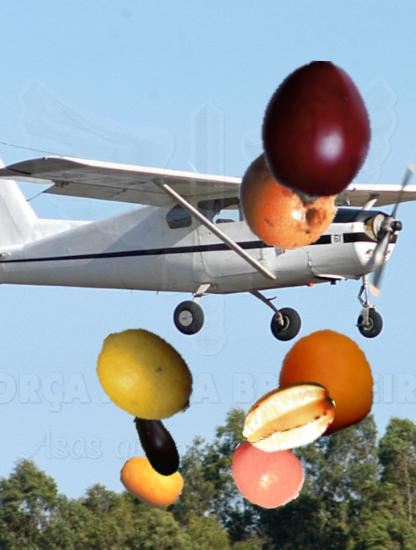Apricot: (272, 330, 378, 436)
Carambula: (240, 369, 338, 467)
Clementine: (228, 432, 307, 511)
Eggplant: (119, 404, 195, 480)
Granadilla: (236, 144, 342, 250)
Kumquats: (120, 449, 184, 513)
Lemon: (91, 321, 200, 430)
Tamarillo: (243, 61, 390, 208)
